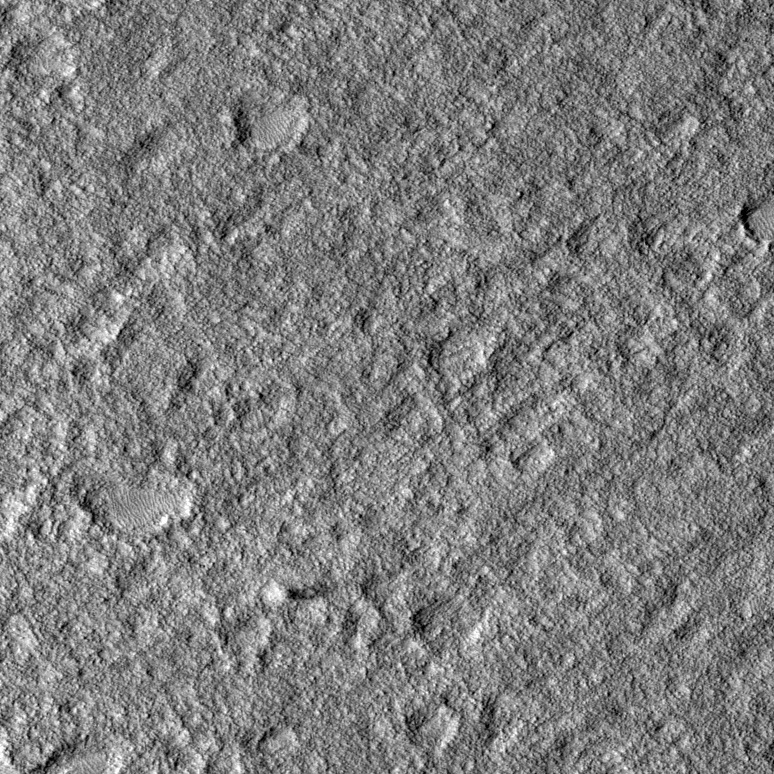dust_devil: (265, 579, 333, 602)
